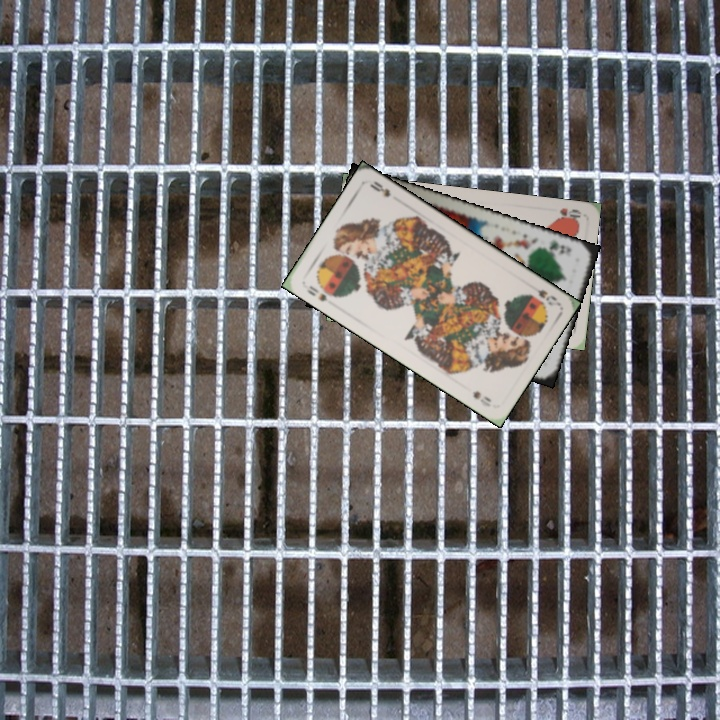GK: (539, 236, 574, 258)
HO: (554, 204, 583, 223)
SO: (533, 285, 559, 309), (303, 281, 330, 304)
